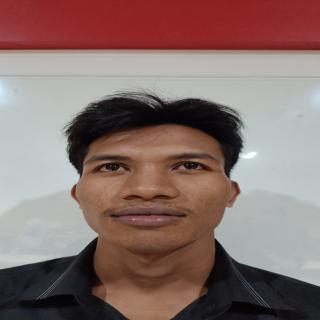Netral: (73, 119, 222, 254)
